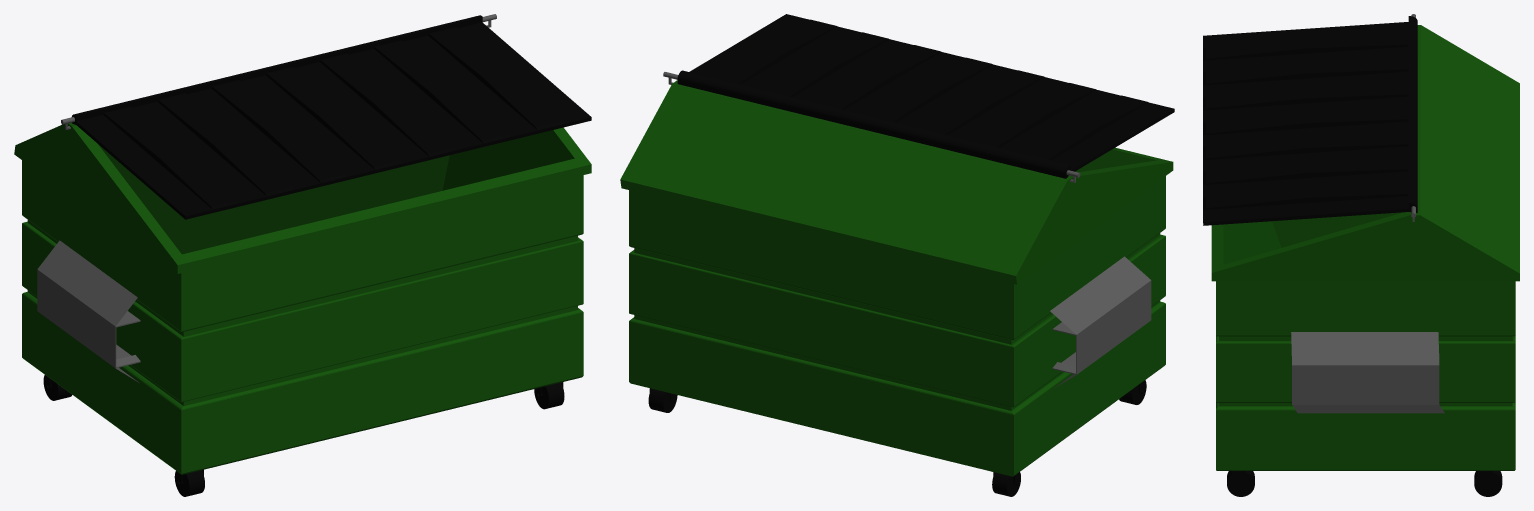
The model's file is Dumpster.fbx.
3 views of the same model, side by side, from view 1: azimuth 30°, elevation 25°; view 2: azimuth 150°, elevation 25°; view 3: azimuth 270°, elevation 25° (orthographic). The views are drawn at different scales.
Parts seen in each view (by area): view 1: Dumpster; view 2: Dumpster; view 3: Dumpster.
Boxes of the visible parts, <box> form: Dumpster: <box>14,14,591,496</box>; Dumpster: <box>620,14,1174,496</box>; Dumpster: <box>1203,14,1519,496</box>.
Size of the model in its own units: 231 by 155 by 148.
